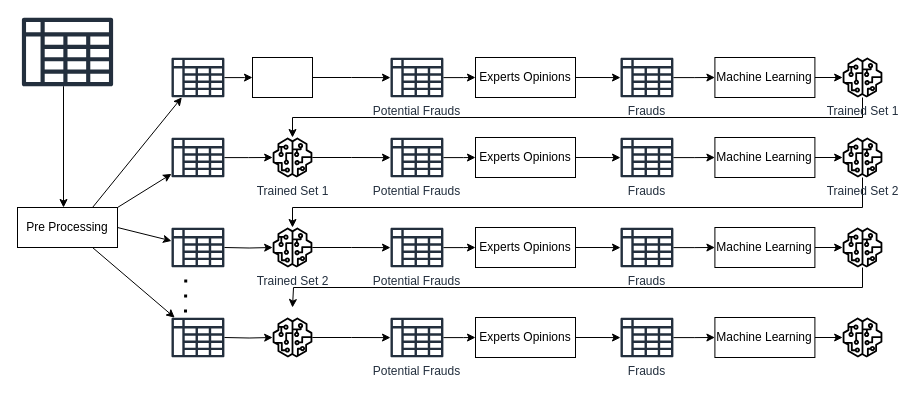
The diagram is 917 pixels wide and 398 high, and some of its shapes have lost their labels. Here are the shapes that lost their labels. From the top down, the centre of each, then its label:
At [67,51]: "Input Data D".
At [197,77]: "D 1".
At [282,77]: "Anomaly Detection".
At [197,157]: "D 2".
At [197,247]: "D 3".
At [862,247]: "Trained Set 3".
At [197,337]: "D m".
At [292,337]: "Trained Set m-1".
At [862,337]: "Trained Set m".
